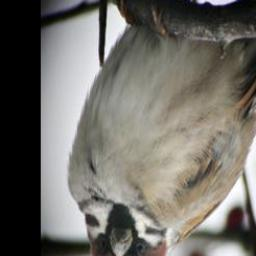Sparrow: (68, 0, 256, 256)
